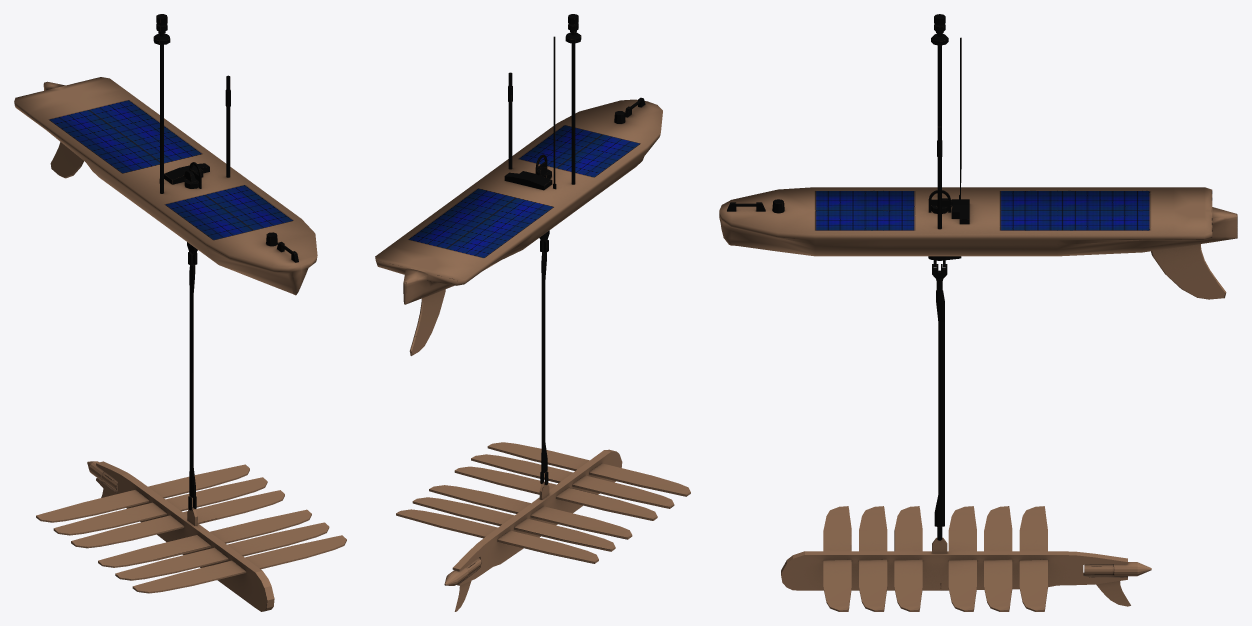
File: Wave Glider.dae
3 renders of one model, left to right at view 1: azimuth 30°, elevation 25°; view 2: azimuth 150°, elevation 25°; view 3: azimuth 270°, elevation 25°, orthographic. The views are drawn at different scales.
Visible parts, largest first — view 1: WaveGlider; view 2: WaveGlider; view 3: WaveGlider.
Part boxes in pixels (left/top/right/bottom): WaveGlider: left=14, top=14, right=346, bottom=611; WaveGlider: left=375, top=14, right=690, bottom=611; WaveGlider: left=719, top=14, right=1237, bottom=611.
Size of the model in its own units: 1.44 by 3.05 by 3.73.
